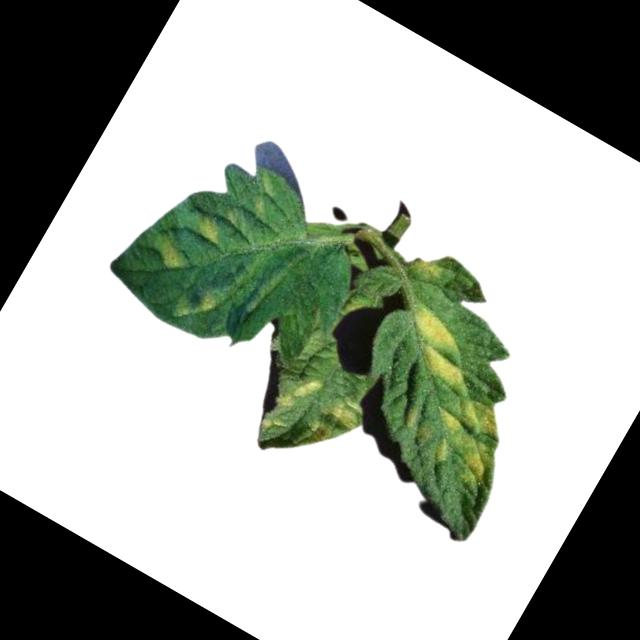Leaf_Mold: (405, 382, 514, 496), (387, 303, 484, 391), (297, 387, 369, 464), (260, 363, 324, 440), (148, 234, 191, 275), (404, 249, 448, 289), (189, 284, 224, 320), (190, 210, 225, 244)
